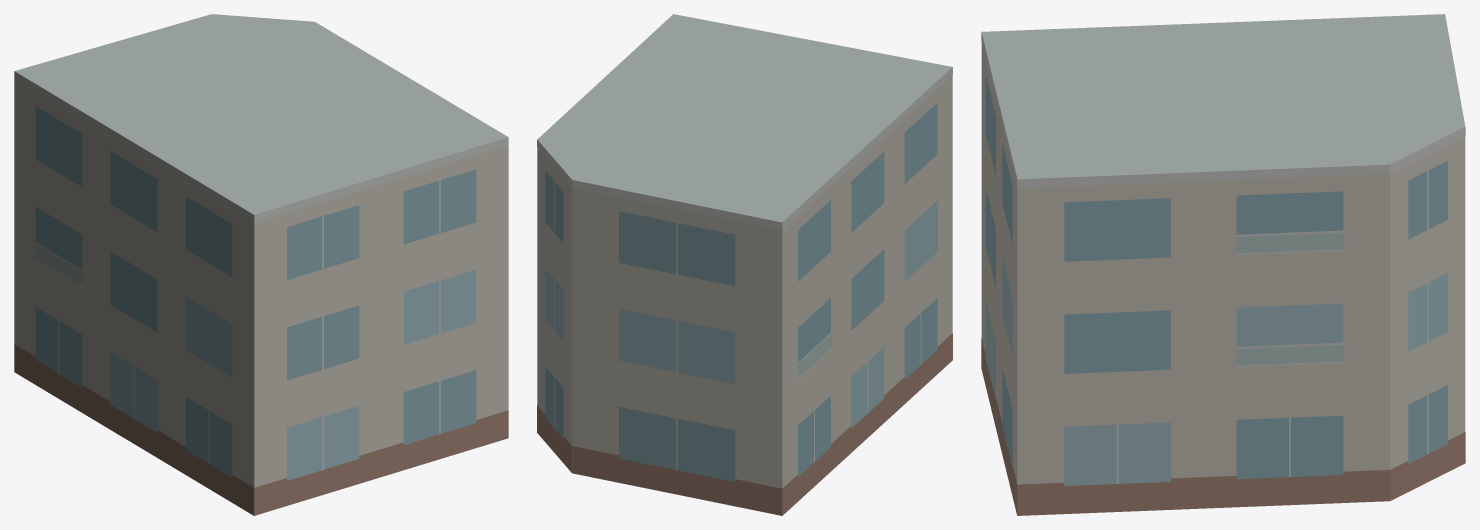
File: survey-upis-33003168.glb
The picture shows the model from 3 angles, left to right: view 1: azimuth 30°, elevation 25°; view 2: azimuth 150°, elevation 25°; view 3: azimuth 270°, elevation 25°; orthographic projection. The views are drawn at different scales.
Parts seen in each view (by area): view 1: survey-upis-33003168.tmp; view 2: survey-upis-33003168.tmp; view 3: survey-upis-33003168.tmp.
Boxes of the visible parts, left/top/right/bottom form: survey-upis-33003168.tmp: left=14, top=14, right=508, bottom=515; survey-upis-33003168.tmp: left=537, top=14, right=952, bottom=515; survey-upis-33003168.tmp: left=981, top=14, right=1465, bottom=515.
Bounding box in the file's own units: 9.6 × 9.1 × 11.87.
